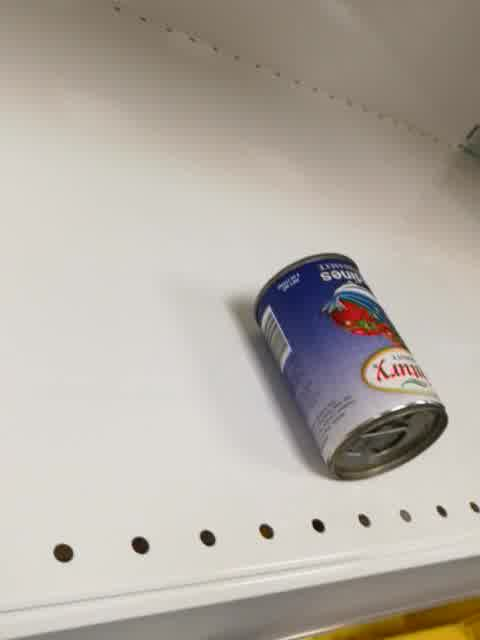sardine: (253, 251, 449, 482)
